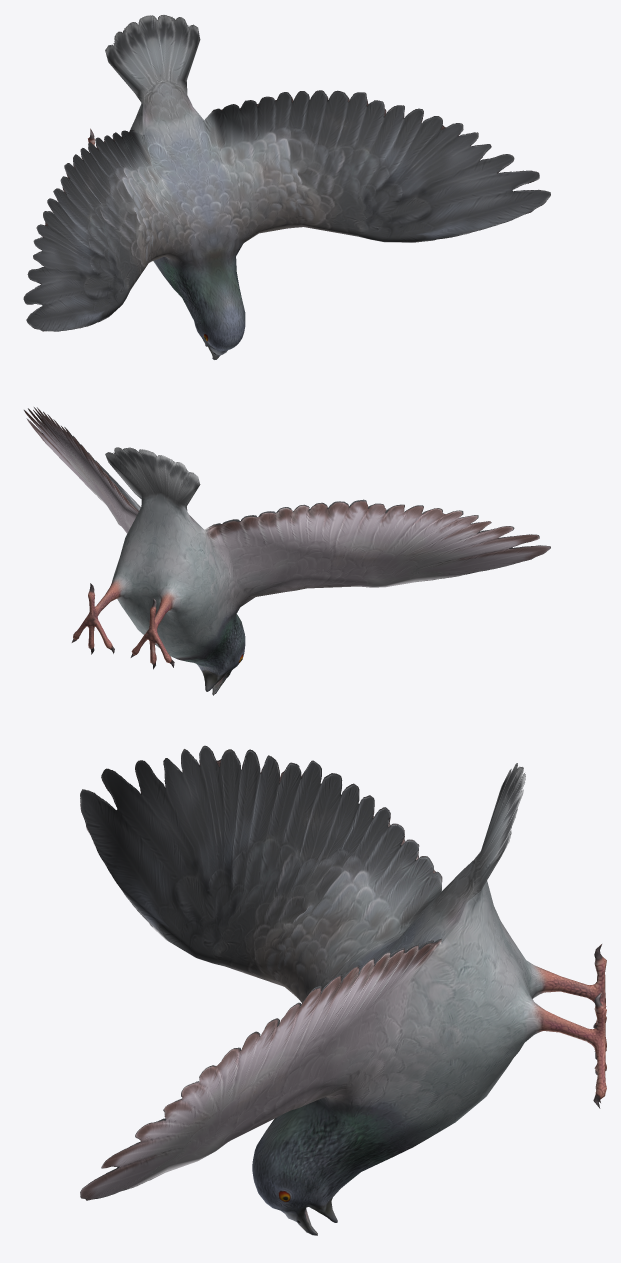
The model's file is pigeon.glb.
3 views of the same model, one above another, from view 1: azimuth 30°, elevation 25°; view 2: azimuth 150°, elevation 25°; view 3: azimuth 270°, elevation 25° (orthographic). The views are drawn at different scales.
Visible parts, largest first — view 1: Object_4.001; view 2: Object_4.001; view 3: Object_4.001.
Boxes of the visible parts, x1,y1,x2,y2 form: Object_4.001: (23,15,550,359); Object_4.001: (24,407,550,695); Object_4.001: (80,745,606,1235).
Size of the model in its own units: 5.25 by 2.49 by 2.92.
1 material, 1 textured.
